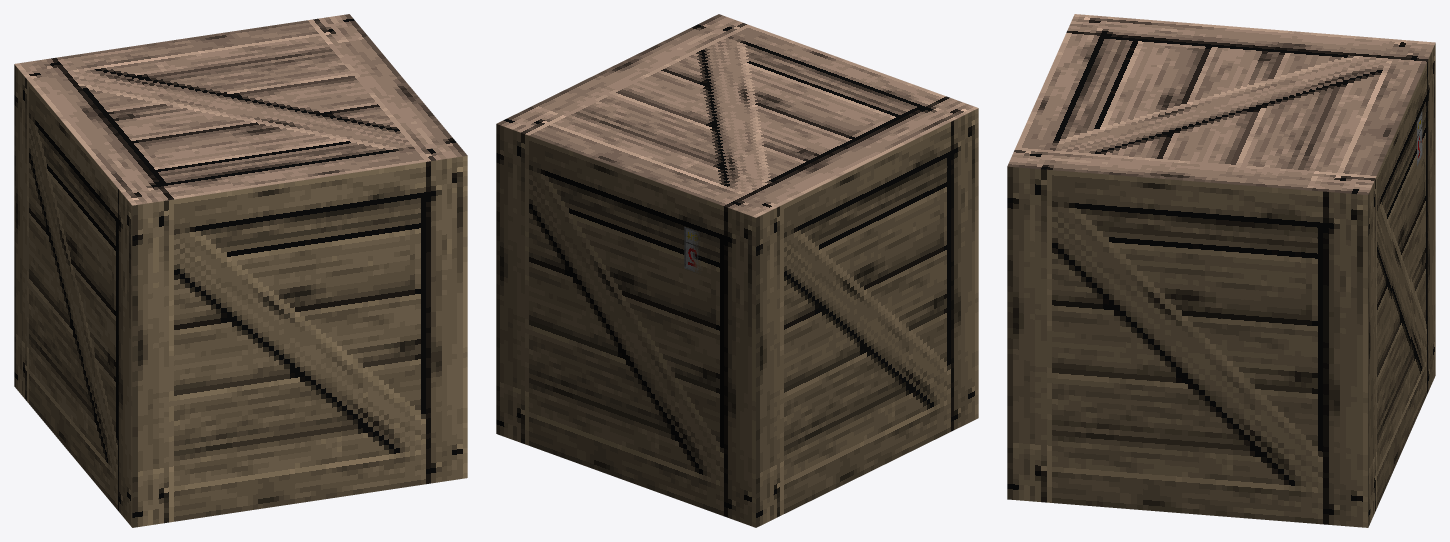
File: primary_085.glb
3 views of the same model, side by side, from view 1: azimuth 30°, elevation 25°; view 2: azimuth 150°, elevation 25°; view 3: azimuth 270°, elevation 25° (orthographic). The views are drawn at different scales.
Parts seen in each view (by area): view 1: Object; view 2: Object; view 3: Object.
Boxes of the visible parts, <box> form: Object: <box>14,14,467,527</box>; Object: <box>496,14,978,527</box>; Object: <box>1007,14,1435,527</box>.
Size of the model in its own units: 1.11 by 0.9499 by 1.11.
7 materials, 7 textured.
